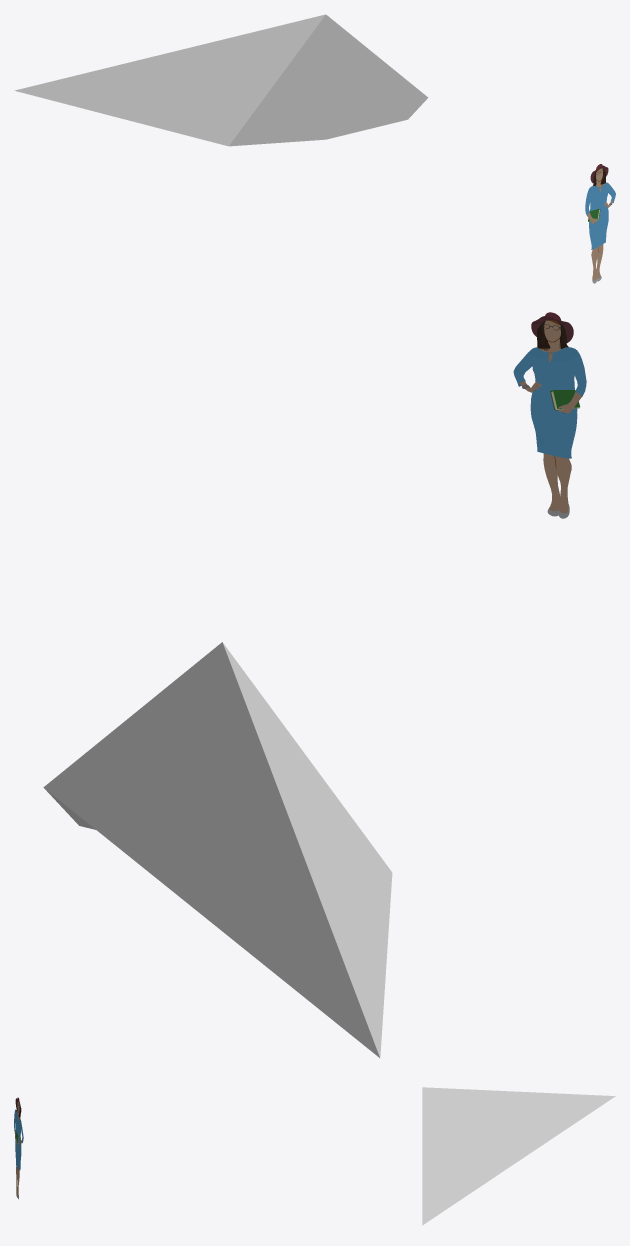
3 renders of one model, top to bottom at view 1: azimuth 30°, elevation 25°; view 2: azimuth 150°, elevation 25°; view 3: azimuth 270°, elevation 25°, orthographic. The views are drawn at different scales.
Parts seen in each view (by area): view 1: Model, Teddy1; view 2: Model, Teddy1; view 3: Model, Teddy1.
Part boxes in pixels (<box>): Model: <box>14,14,428,146</box>; Teddy1: <box>585,164,615,283</box>; Model: <box>43,642,392,1057</box>; Teddy1: <box>513,312,586,518</box>; Model: <box>422,1087,615,1225</box>; Teddy1: <box>14,1097,23,1199</box>.
Size of the model in its own units: 188 by 79.29 by 369.
